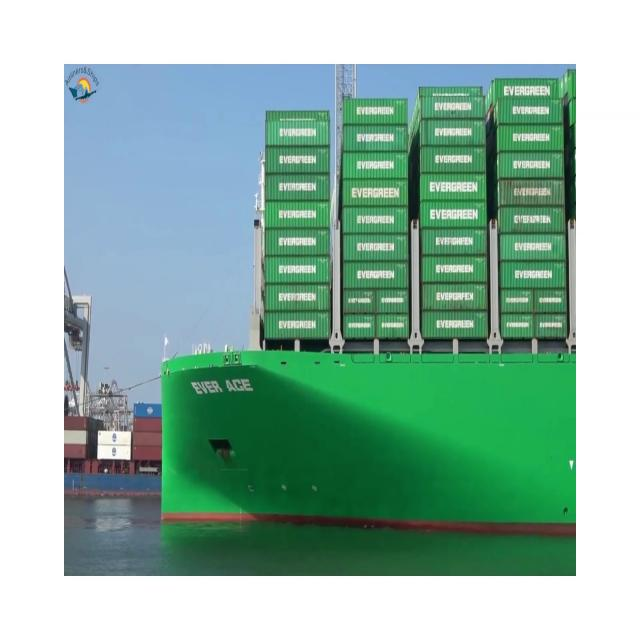OCR: (180, 374, 264, 404)
